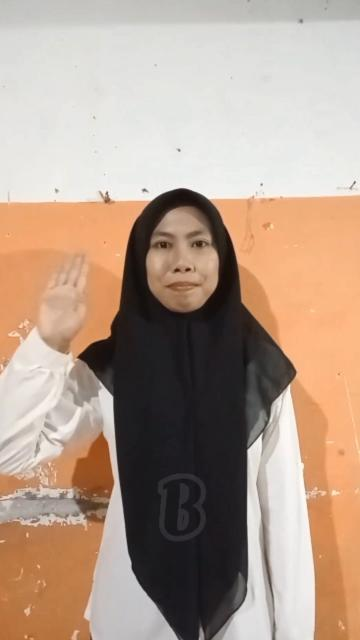B: (36, 248, 90, 356)
